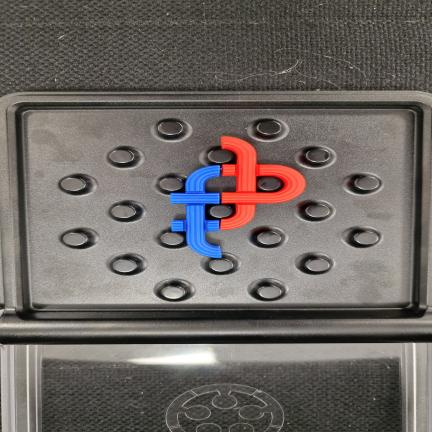C_DarkBlue: (171, 166, 221, 258)
E_Red: (221, 137, 305, 229)
board: (0, 92, 432, 343)
hinge: (0, 309, 431, 343)
pin: (256, 176, 283, 192), (60, 177, 87, 192), (256, 121, 282, 136), (305, 148, 331, 163), (304, 203, 330, 218), (62, 232, 88, 247), (158, 121, 183, 136), (208, 149, 233, 164), (109, 149, 134, 164), (354, 176, 379, 191), (304, 258, 330, 272), (111, 205, 136, 219), (256, 231, 281, 245), (353, 231, 378, 245), (112, 259, 137, 273), (161, 286, 186, 300), (257, 285, 282, 299), (159, 177, 183, 191), (160, 232, 184, 246), (209, 258, 233, 272), (209, 204, 232, 218)
